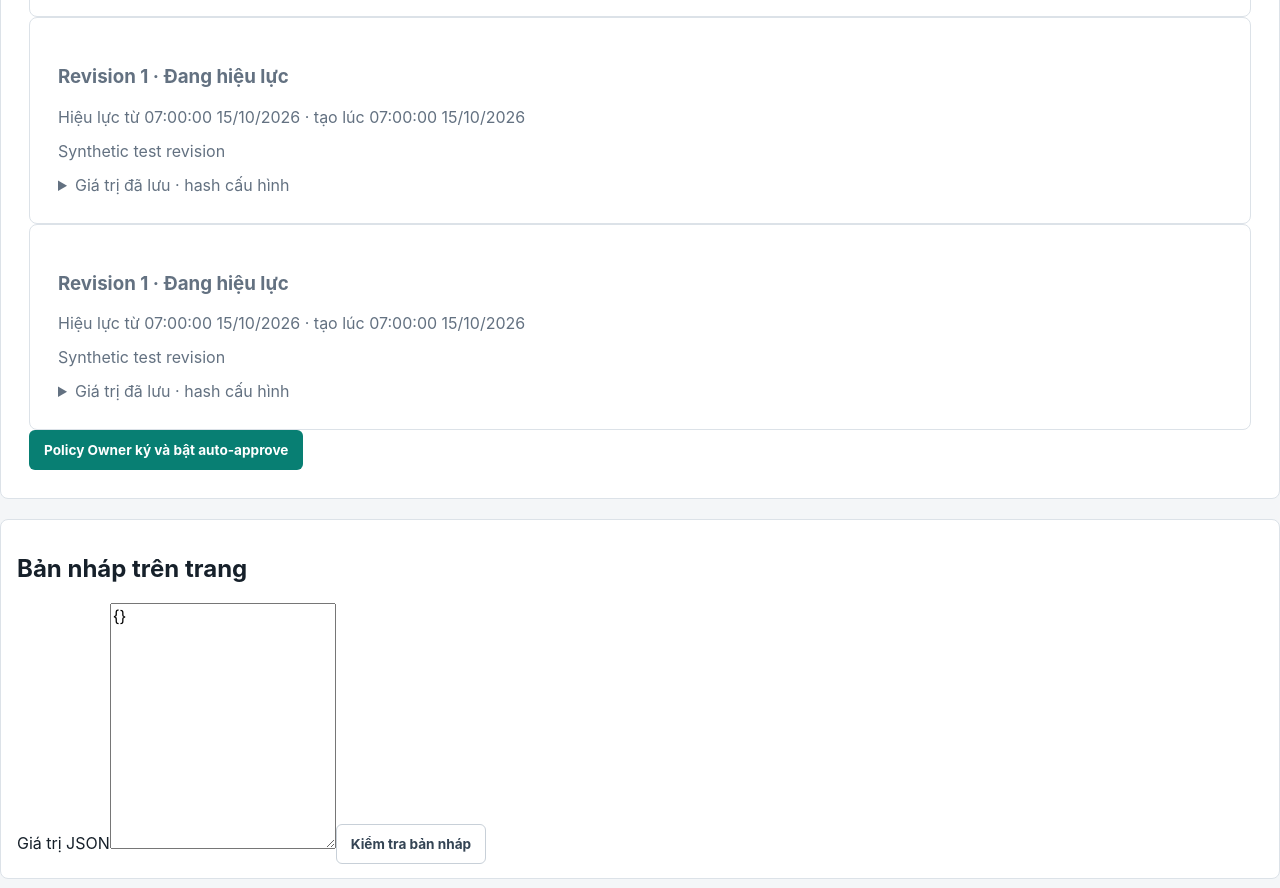
Test: Policy Owner sign-off UI › submits the exact currently displayed configuration revision IDs and hashes
The image size is (1280, 888).
(page scrolled)
Step 1. Click the button "Policy Owner ký và bật auto-approve" → (166, 450), box 29,430 -> 304,470
(page scrolled)
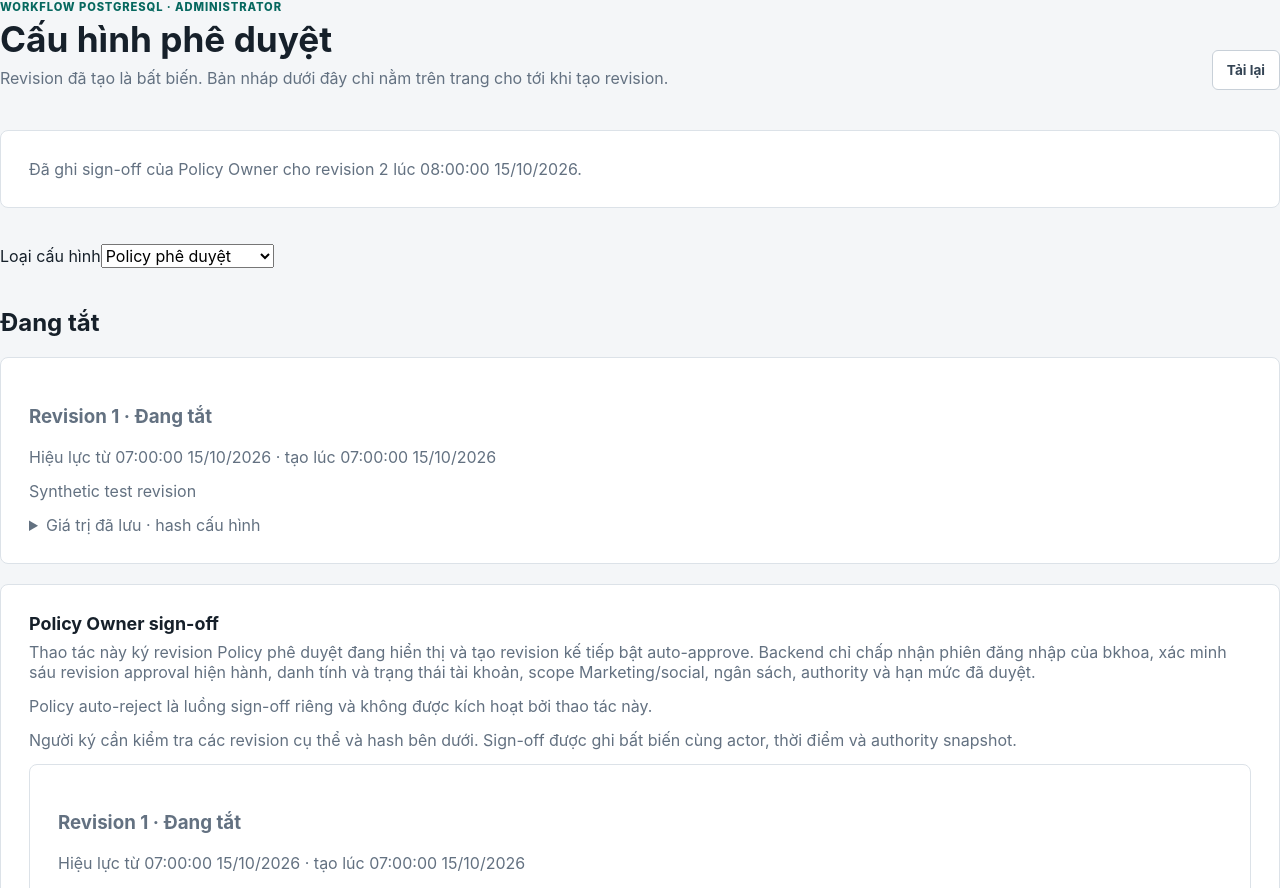
Now the message shows "Đã ghi sign-off của Policy Owner cho revision 2", box 29,160 -> 582,180
